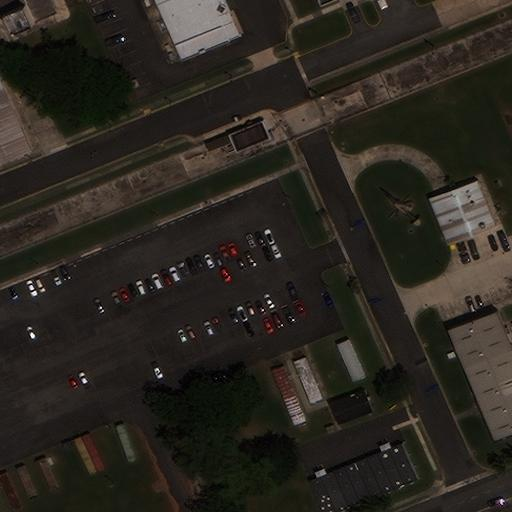Military Fighter: (379, 187, 418, 224)
